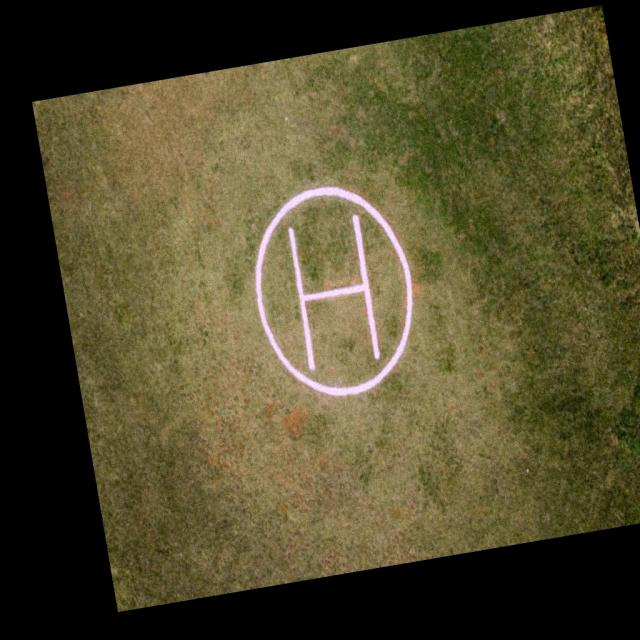helipad: (248, 179, 418, 397)
